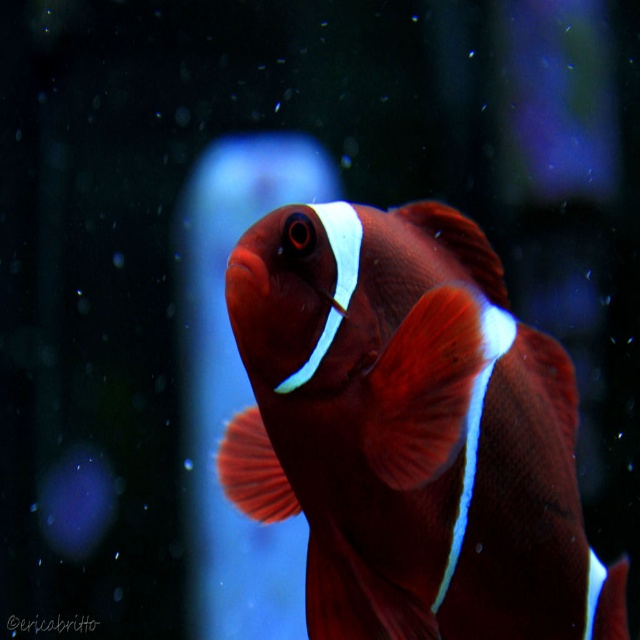Fish: (212, 198, 625, 639)
